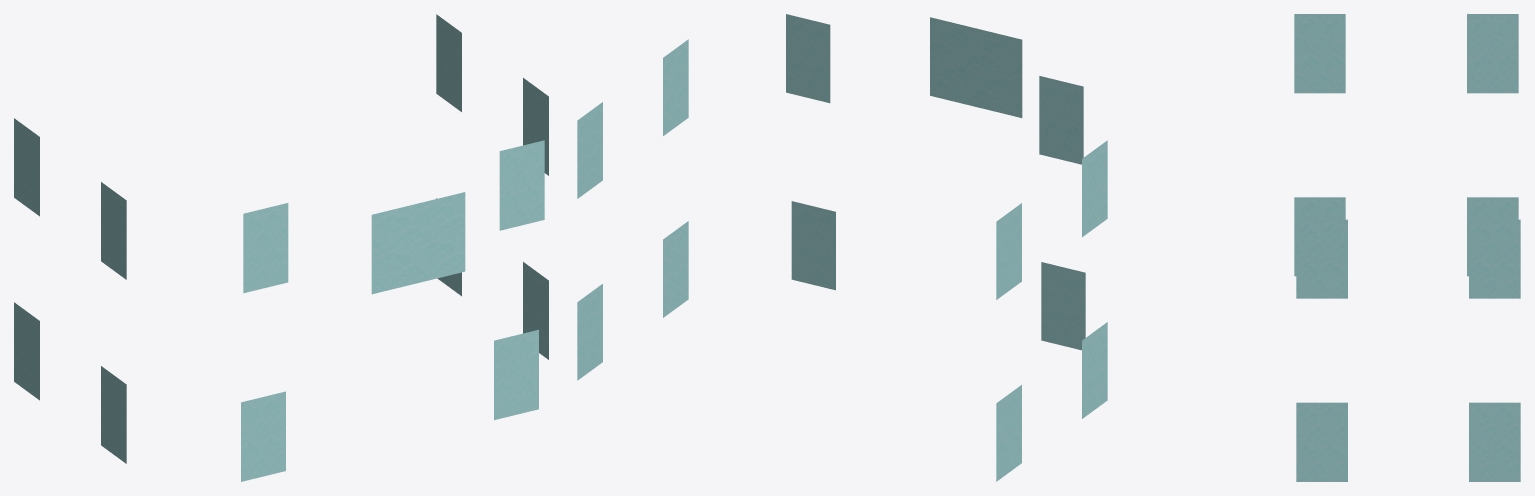
File: house_1_windows.obj
3 views of the same model, side by side, from view 1: azimuth 30°, elevation 25°; view 2: azimuth 150°, elevation 25°; view 3: azimuth 270°, elevation 25° (orthographic).
Parts seen in each view (by area): view 1: Plane.007; view 2: Plane.007; view 3: Plane.007.
Boxes of the visible parts, bbox=[...] form: Plane.007: bbox=[14, 14, 548, 481]; Plane.007: bbox=[577, 14, 1107, 481]; Plane.007: bbox=[1294, 14, 1520, 481].
Bounding box in the file's own units: 4.31 × 2.6 × 3.4.
1 material, 1 textured.
